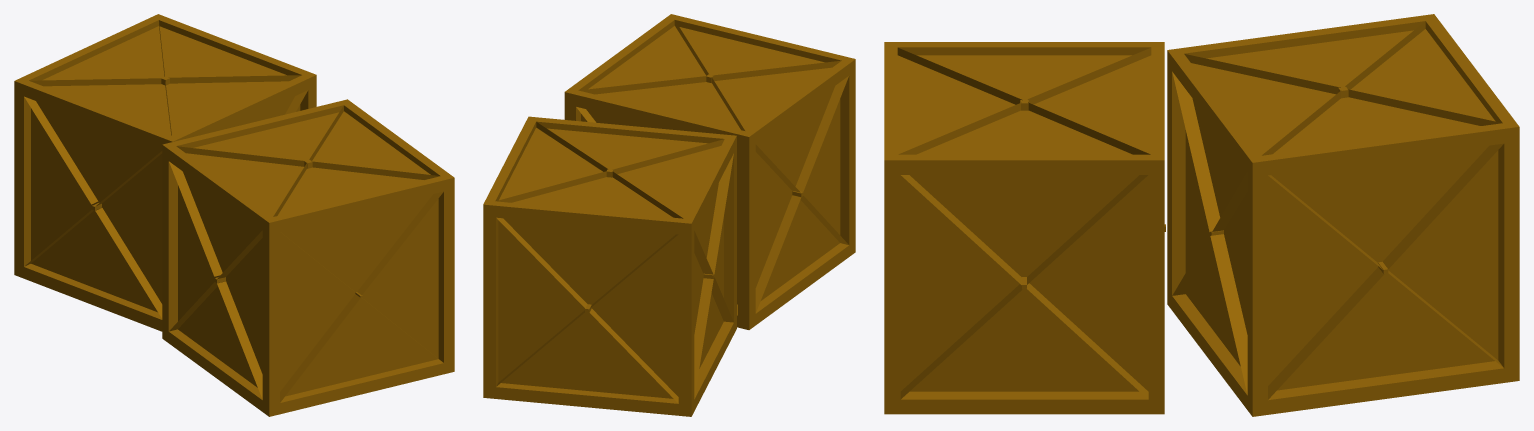
The model's file is Crate2.fbx.
3 views of the same model, side by side, from view 1: azimuth 30°, elevation 25°; view 2: azimuth 150°, elevation 25°; view 3: azimuth 270°, elevation 25° (orthographic). The views are drawn at different scales.
Visible parts, largest first — view 1: Cube, Cube.001; view 2: Cube.001, Cube; view 3: Cube.001, Cube.
Boxes of the visible parts, x1,y1,x2,y2 form: Cube: (162,99,454,416); Cube.001: (14,14,316,331); Cube.001: (483,116,736,416); Cube: (564,14,855,329); Cube.001: (1167,14,1519,416); Cube: (884,42,1165,414).
Bounding box in the file's own units: 251 × 201 × 453.
